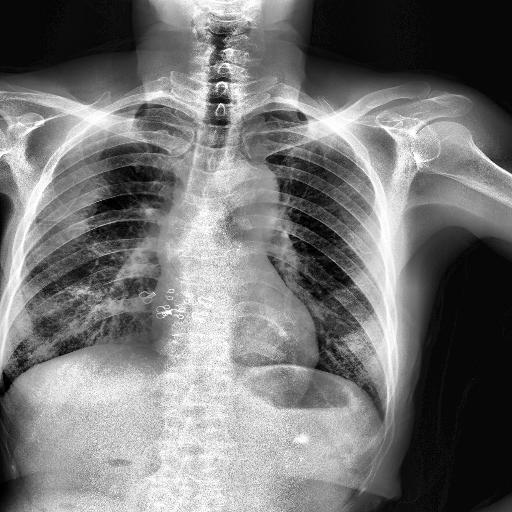0- Aortic enlargement: (214, 160, 284, 216), (215, 166, 275, 224), (235, 164, 281, 208)
